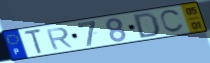7: (77, 20, 98, 47)
8: (105, 17, 129, 43)
C: (159, 9, 186, 34)
D: (133, 12, 162, 40)
R: (45, 26, 75, 51)
T: (22, 27, 44, 55)
